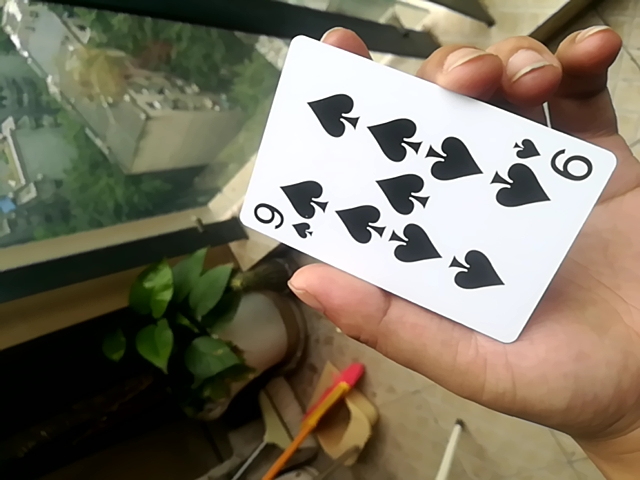ht 9: (228, 34, 625, 350)
